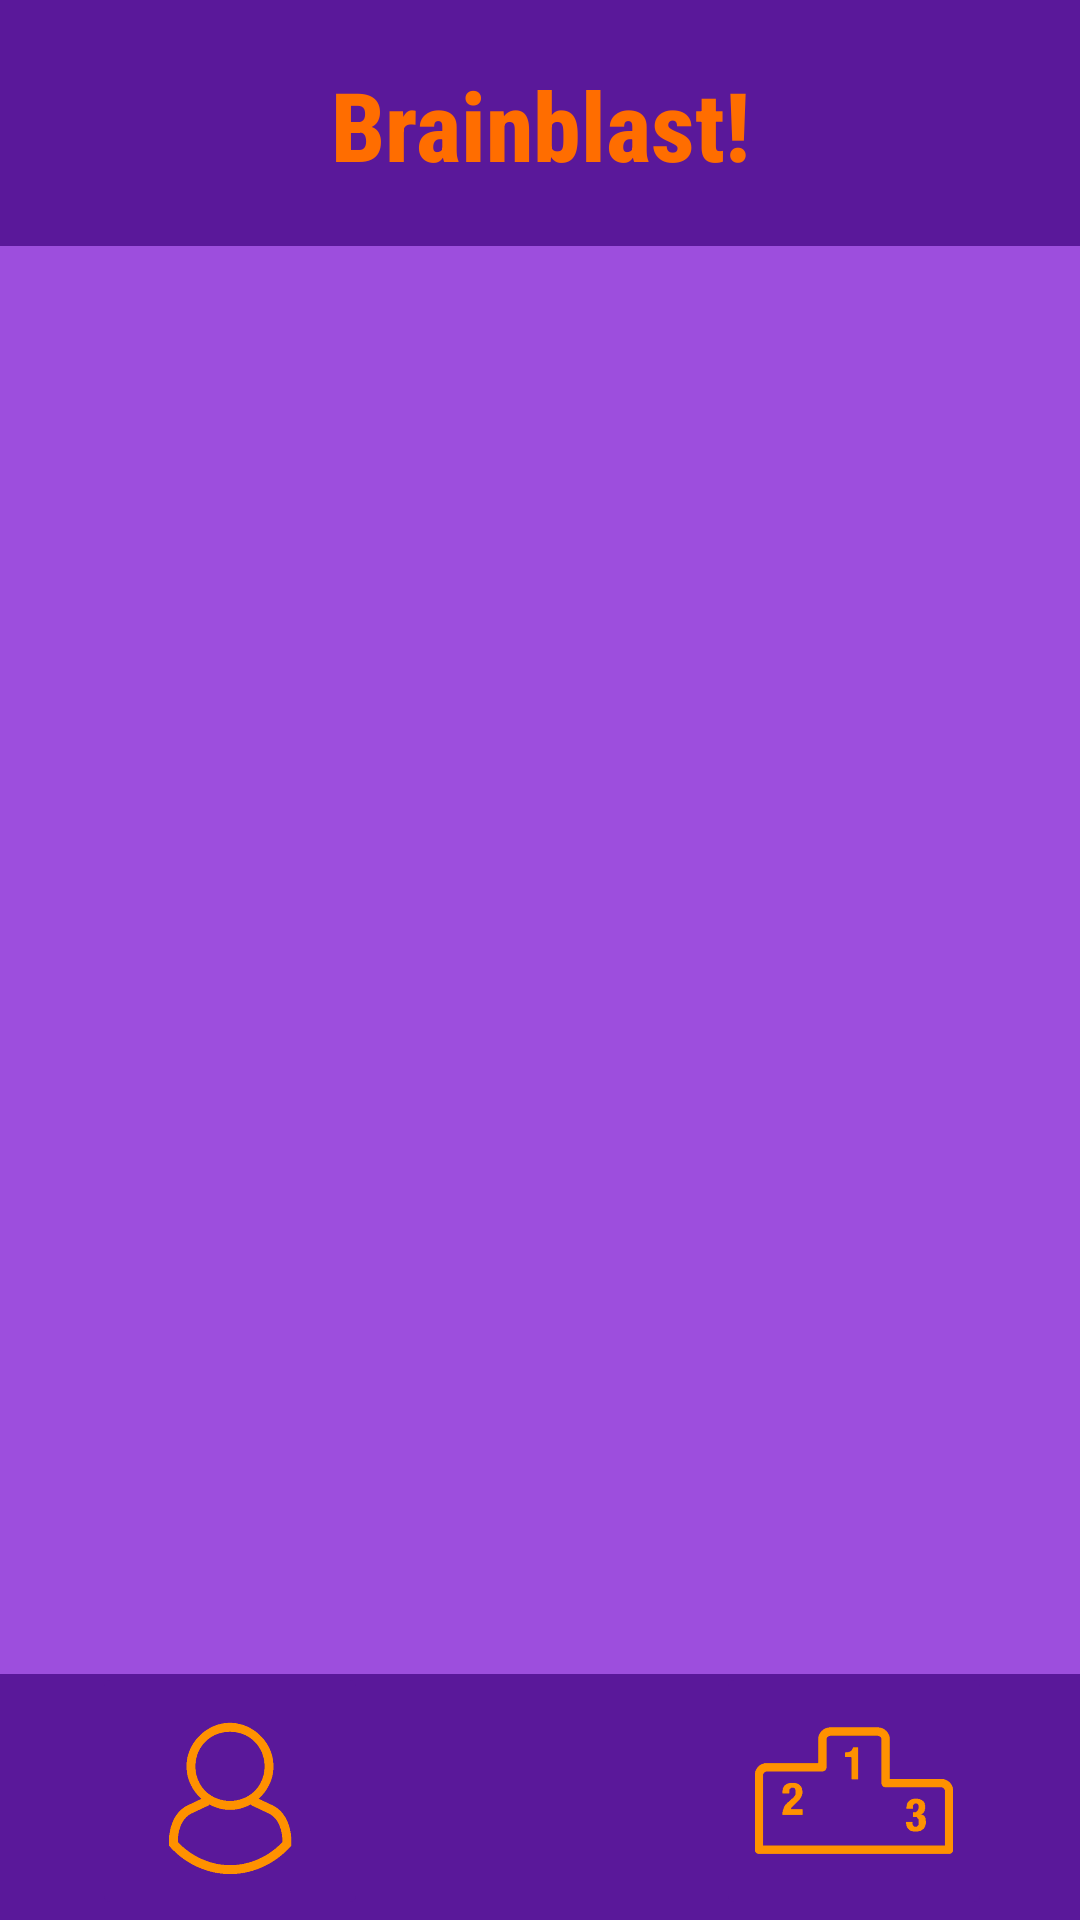

Where to tap for icons on this 1080w x 1920h app screen, as (x,y):
Leaderboard redirect: (854,1790)
